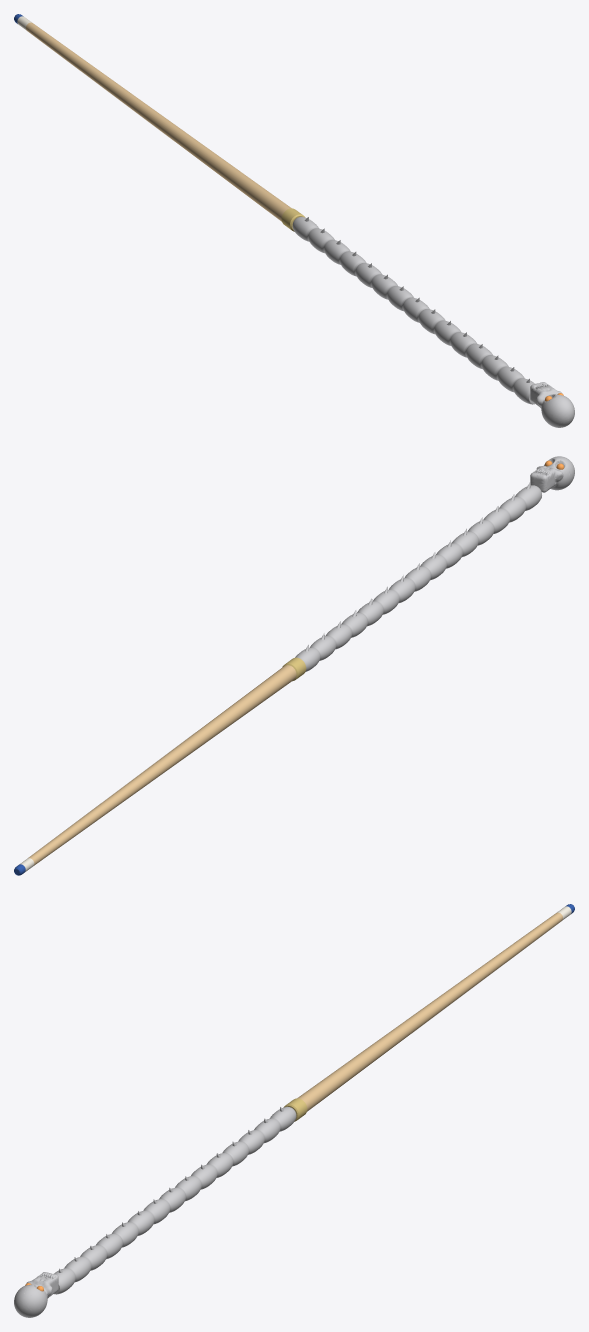
File: cue_skull.glb
3 views of the same model, one above another, from view 1: azimuth 30°, elevation 25°; view 2: azimuth 150°, elevation 25°; view 3: azimuth 330°, elevation 25° (orthographic).
Parts seen in each view (by area): view 1: bone, shaft, skull; view 2: bone, shaft, skull; view 3: bone, shaft, skull.
Part boxes in pixels (box(x1,y1,x2,y2)): bone: box(292, 216, 534, 404); shaft: box(26, 22, 291, 221); skull: box(530, 382, 574, 427); bone: box(295, 482, 541, 671); shaft: box(28, 665, 296, 865); skull: box(530, 456, 574, 492); bone: box(54, 1106, 296, 1294); shaft: box(297, 912, 562, 1111); skull: box(14, 1272, 58, 1317).
Bounding box in the file's own units: 0.042 × 0.0441 × 1.46.
